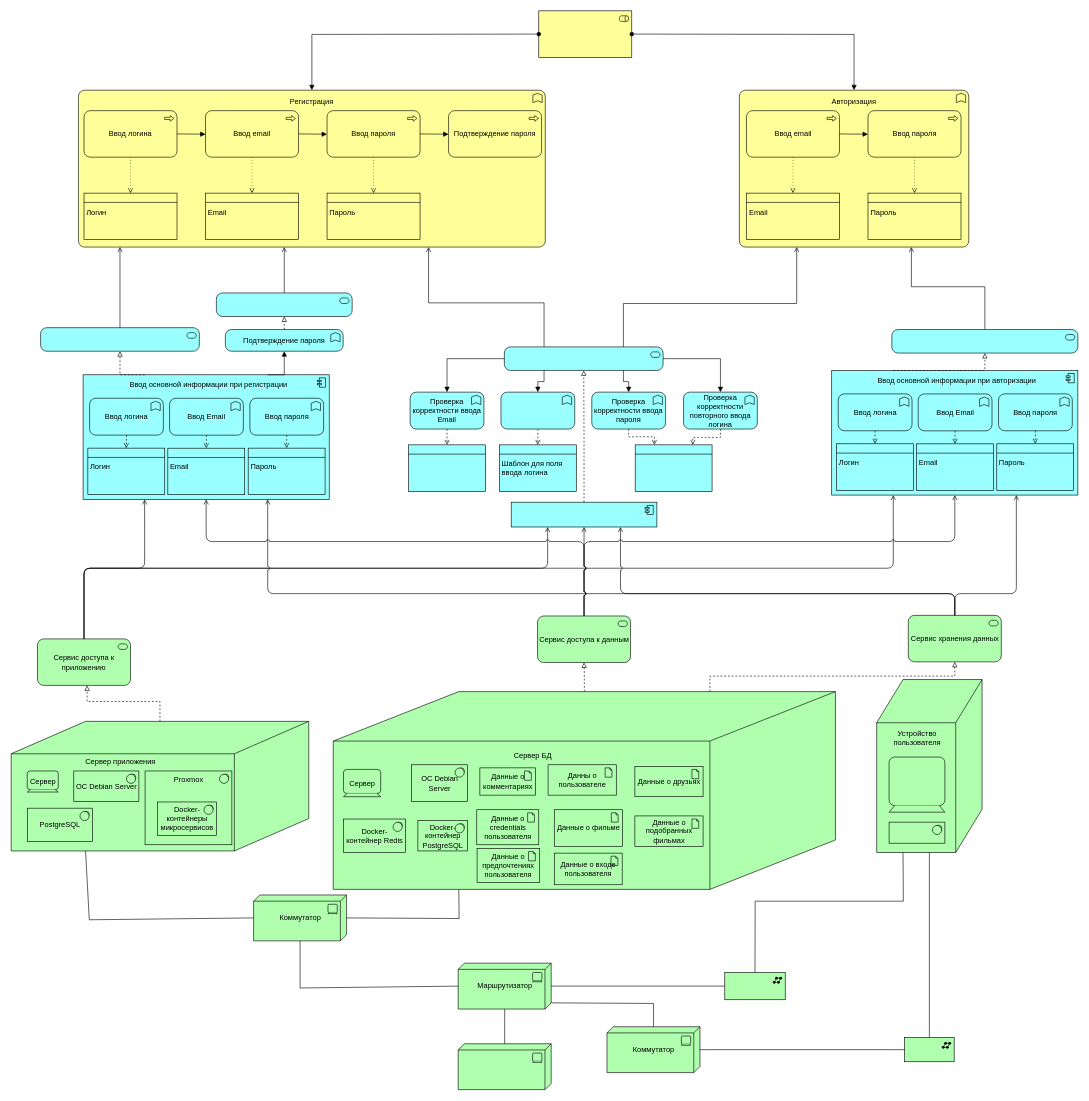
Image size: 1089x1101. Some labels were removed from this diagram. The shapes that lost their labels are listed below. From the top down, each one's centre as x and y in pixels, then its label:
(x=585, y=33): Неавторизованный пользователь
(x=284, y=304): Сервис подтверждения пароля
(x=119, y=339): Сервис ввода основной информации
(x=583, y=358): Сервис проверки корректности ввода
(x=984, y=341): Сервис ввода информации при авторизации
(x=537, y=410): Проверка корректности ввода логина
(x=446, y=467): Шаблон для поля ввода Email
(x=673, y=467): Шаблон для поля ввода пароля
(x=584, y=514): Модуль проверки корректности введенной информации
(x=916, y=784): Персональный компьютер с доступом в интернет
(x=916, y=832): Браузер
(x=754, y=986): WLAN
(x=504, y=1066): Брандмауэр
(x=929, y=1049): LAN
